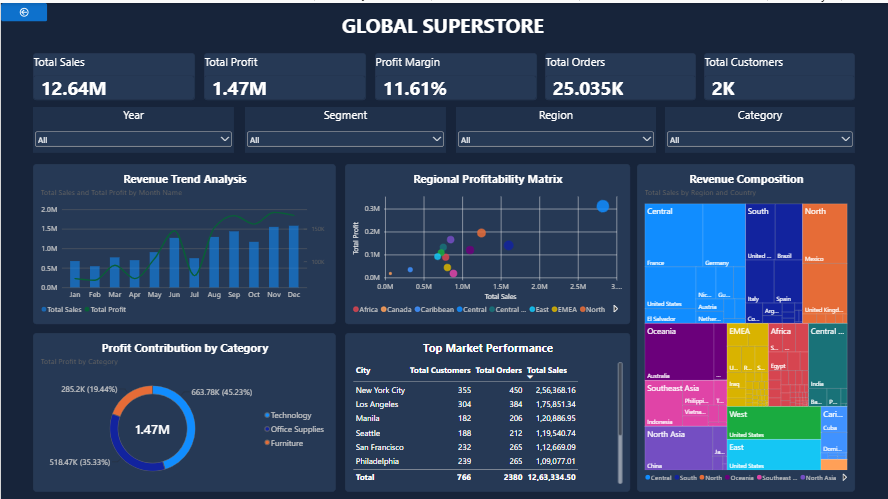

What the dashboard file says about the page in this screenshot:
{"tool":"powerbi","page":{"name":"Page 1","canvas":[1920,1080],"ordinal":0},"visuals":[{"type":"cardVisual","title":"Total Sales","fields":{"Data":["Orders.Total Sales"]},"box":[69.1,108,349.9,101.5],"z":0},{"type":"cardVisual","title":"Total Profit","fields":{"Data":["Orders.Total Profit"]},"box":[438.5,108,349.9,101.5],"z":1000},{"type":"cardVisual","title":"Profit Margin","fields":{"Data":["Orders.Profit Margin %"]},"box":[807.8,108,349.9,101.5],"z":2000},{"type":"cardVisual","title":"Total Customers","fields":{"Data":["Orders.Total Customers"]},"box":[1518.5,108,326.2,101.5],"z":3000},{"type":"cardVisual","title":"Total Orders","fields":{"Data":["Orders.Total Orders"]},"box":[1175,108,326.2,101.5],"z":4000},{"type":"textbox","box":[0,0,1920.2,90.7],"z":5000},{"type":"lineClusteredColumnComboChart","title":"Revenue Trend Analysis","fields":{"Category":["DateTable.Month Name"],"Y":["Orders.Total Sales"],"Y2":["Orders.Total Profit"]},"box":[69.1,347.8,654.5,345.6],"z":6000},{"type":"treemap","title":"Revenue Composition","fields":{"Details":["Orders.Country"],"Group":["Orders.Region"],"Values":["Orders.Total Sales"]},"box":[1373.8,347.8,470.9,708.5],"z":7000},{"type":"scatterChart","title":"Regional Profitability Matrix","fields":{"Category":["Orders.Region"],"Series":["Orders.Region"],"Size":["Orders.Total Sales"],"X":["Orders.Total Sales"],"Y":["Orders.Total Profit"]},"box":[743,347.8,615.6,345.6],"z":8000},{"type":"tableEx","title":"Top Market Performance","fields":{"Values":["Orders.City","Orders.Total Customers","Orders.Total Orders","Orders.Total Sales"]},"box":[743,712.8,615.6,343.4],"z":9000},{"type":"slicer","title":"Year","fields":{"Values":["DateTable.Year"]},"box":[69.1,224.6,434.2,99.4],"z":11000},{"type":"slicer","title":"Region","fields":{"Values":["Orders.Region"]},"box":[982.8,224.6,432,99.4],"z":12000},{"type":"slicer","title":"Category","fields":{"Values":["Orders.Category"]},"box":[1434.2,224.6,410.4,99.4],"z":13000},{"type":"slicer","title":"Segment","fields":{"Values":["Orders.Segment"]},"box":[527,224.6,434.2,99.4],"z":14000},{"type":"donutChart","title":"Profit Contribution by Category","fields":{"Category":["Orders.Category"],"Y":["Orders.Total Profit"]},"box":[69.1,712.8,654.5,343.4],"z":15000}]}

Visuals, with their boxes in screenshot pixels (x1, y1, x2, y2), scaled from the page's 1920x1080 canvas onto the 888x499 screenshot:
"Total Sales" cardVisual: region(32, 50, 194, 97)
"Total Profit" cardVisual: region(203, 50, 365, 97)
"Profit Margin" cardVisual: region(374, 50, 535, 97)
"Total Customers" cardVisual: region(702, 50, 853, 97)
"Total Orders" cardVisual: region(543, 50, 694, 97)
textbox: region(0, 0, 887, 42)
"Revenue Trend Analysis" lineClusteredColumnComboChart: region(32, 161, 335, 320)
"Revenue Composition" treemap: region(635, 161, 853, 488)
"Regional Profitability Matrix" scatterChart: region(344, 161, 628, 320)
"Top Market Performance" tableEx: region(344, 329, 628, 488)
"Year" slicer: region(32, 104, 233, 150)
"Region" slicer: region(455, 104, 654, 150)
"Category" slicer: region(663, 104, 853, 150)
"Segment" slicer: region(244, 104, 445, 150)
"Profit Contribution by Category" donutChart: region(32, 329, 335, 488)
